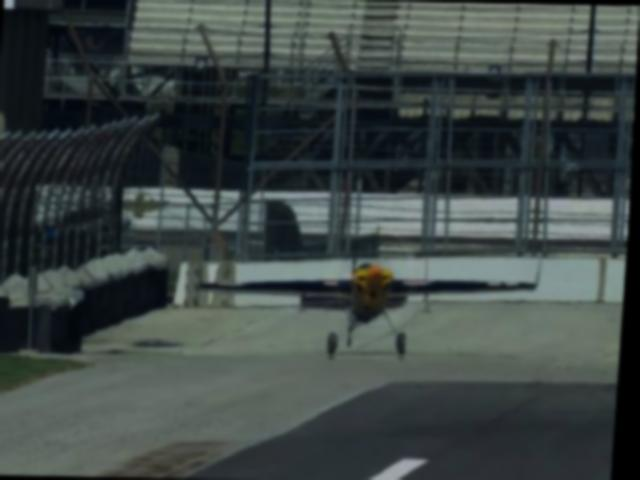uav: (193, 253, 551, 360)
